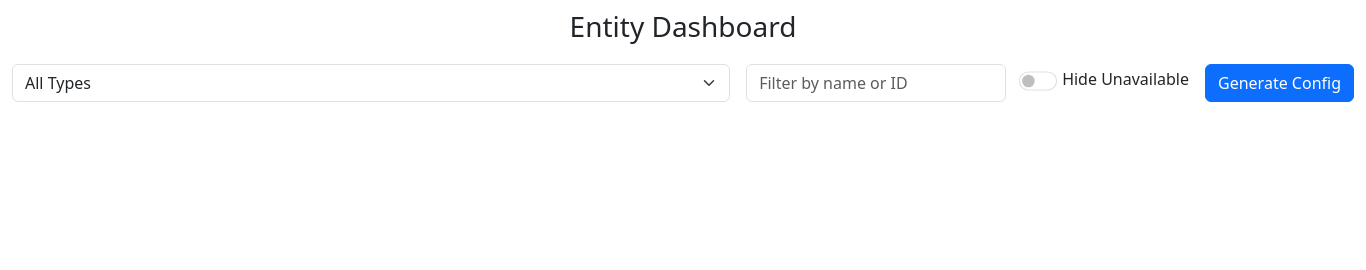
Test: RawEntityView.vue › Edge Cases › handles area with unnamed label
Select "area" in the dropdown at (371, 83), box [12,64,730,102]
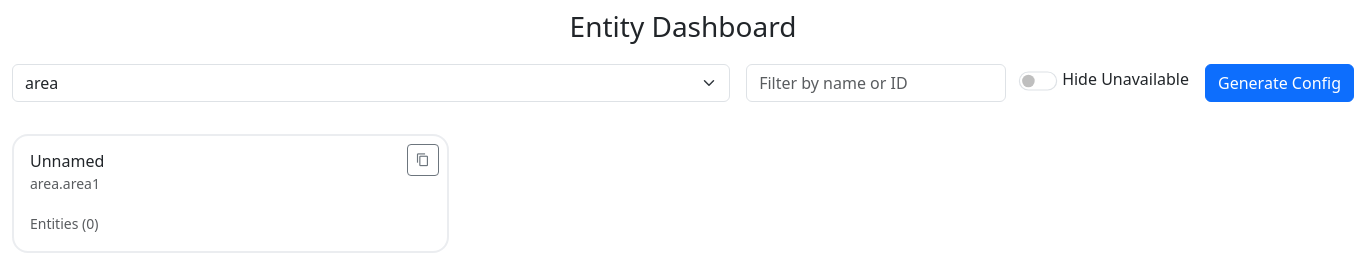
Result: the text "Unnamed" is shown at [30,152,104,171]
